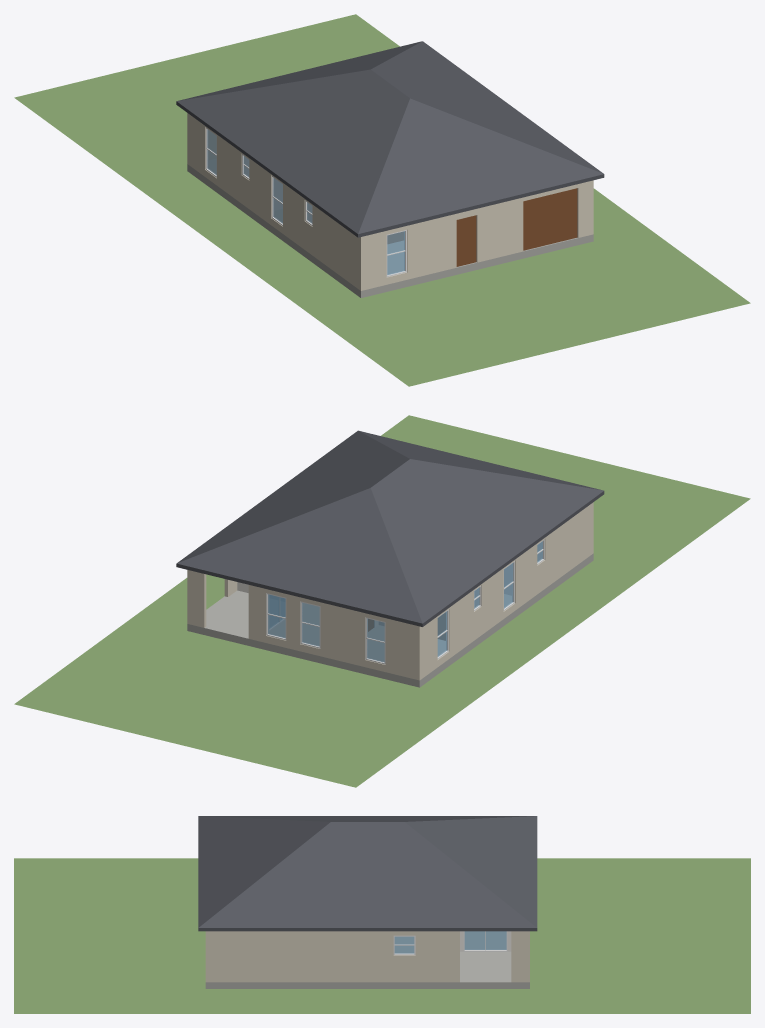
3 views of the same model, one above another, from view 1: azimuth 30°, elevation 25°; view 2: azimuth 150°, elevation 25°; view 3: azimuth 270°, elevation 25° (orthographic). The views are drawn at different scales.
Visible parts, largest first — view 1: SITE, ROOF, ext-front, ext-left, SLAB-L1, GD, D01, N06; view 2: SITE, ROOF, ext-back, ext-left, SLAB-L1, N02, N03, N01; view 3: SITE, ROOF, ext-right, SLAB-L1, D13, N05.
Boxes of the visible parts, bbox=[...] form: SITE: bbox=[14, 14, 750, 386]; ROOF: bbox=[176, 41, 604, 237]; ext-front: bbox=[359, 180, 593, 290]; ext-left: bbox=[189, 114, 358, 289]; SLAB-L1: bbox=[187, 159, 593, 297]; GD: bbox=[523, 188, 577, 250]; D01: bbox=[456, 215, 476, 266]; N06: bbox=[387, 231, 404, 275]; SITE: bbox=[14, 415, 750, 787]; ROOF: bbox=[176, 430, 604, 626]; ext-back: bbox=[187, 570, 421, 680]; ext-left: bbox=[421, 504, 591, 678]; SLAB-L1: bbox=[187, 553, 593, 687]; N02: bbox=[268, 594, 285, 638]; N03: bbox=[367, 618, 384, 662]; N01: bbox=[302, 602, 319, 646]; SITE: bbox=[14, 858, 750, 1013]; ROOF: bbox=[198, 816, 537, 931]; ext-right: bbox=[209, 931, 526, 982]; SLAB-L1: bbox=[205, 931, 529, 988]; D13: bbox=[464, 931, 506, 949]; N05: bbox=[394, 936, 414, 953].
Bounding box in the file's own units: 15.24 × 5.21 × 30.48.
